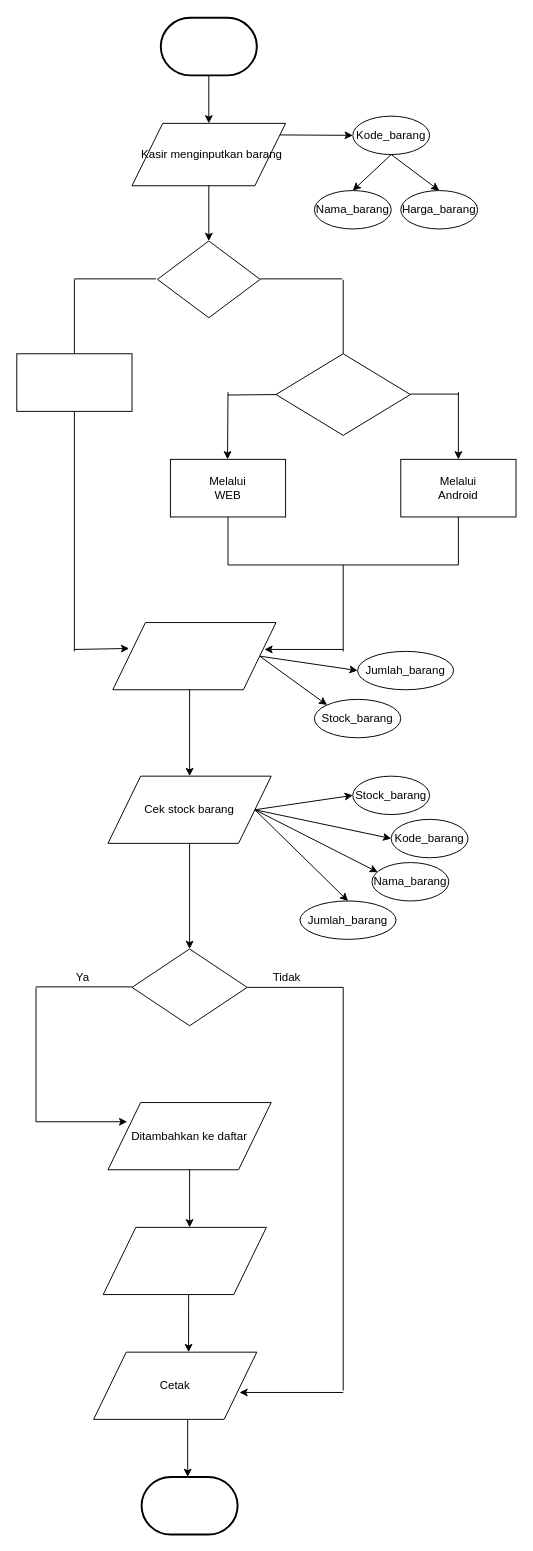
This 533x1551 diagram has some shape labels left out. The centre of each missing label's shape, as x and y in pixels:
"Input" belongs at [208,279].
"Input dengan Scan Barcode" belongs at [342,394].
"Input Kode Manual" belongs at [74,382].
"Kasir menginputkan Jumlah barang" belongs at [194,656].
"Pembayaran" belongs at [184,1260].
"Selesai" belongs at [189,1505].
"Start" belongs at [208,46].
"Tersedia" belongs at [189,987].
